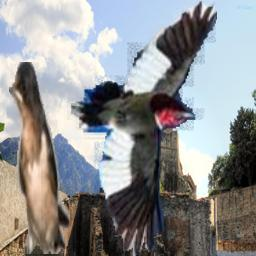Swallow: (9, 62, 70, 254)
Woodpecker: (67, 0, 217, 256)
